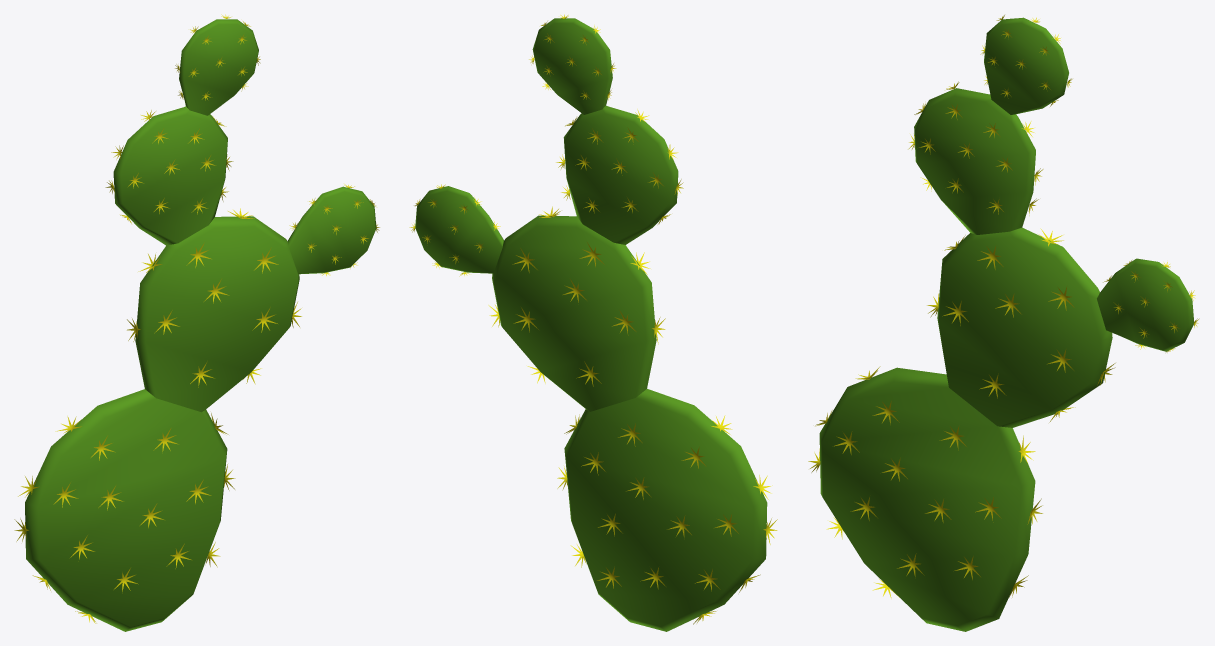
Rendered from 2dcactustype.fbx.
3 views of the same model, side by side, from view 1: azimuth 30°, elevation 25°; view 2: azimuth 150°, elevation 25°; view 3: azimuth 330°, elevation 25° (orthographic). The views are drawn at different scales.
Visible parts, largest first — view 1: Beavertail, Beavertail-thorns; view 2: Beavertail, Beavertail-thorns; view 3: Beavertail, Beavertail-thorns.
Boxes of the visible parts, box(x1,y1,x2,y2) form: Beavertail: box(25, 19, 376, 631); Beavertail-thorns: box(14, 14, 379, 623); Beavertail: box(415, 18, 767, 631); Beavertail-thorns: box(409, 14, 777, 624); Beavertail: box(819, 17, 1194, 631); Beavertail-thorns: box(808, 15, 1199, 598).
Bounding box in the file's own units: 371 × 583 × 28.83.
